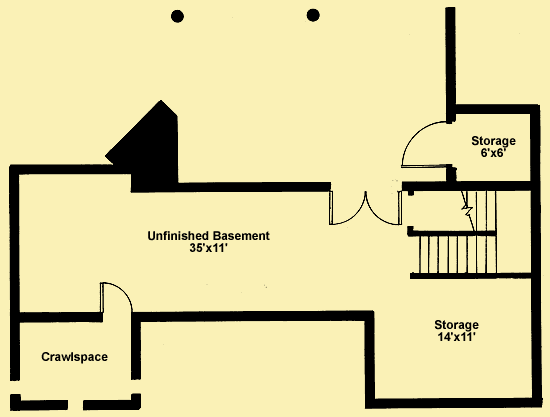door: (326, 189, 404, 231), (397, 118, 452, 169), (98, 278, 137, 313)
stairs: (411, 191, 498, 275)
